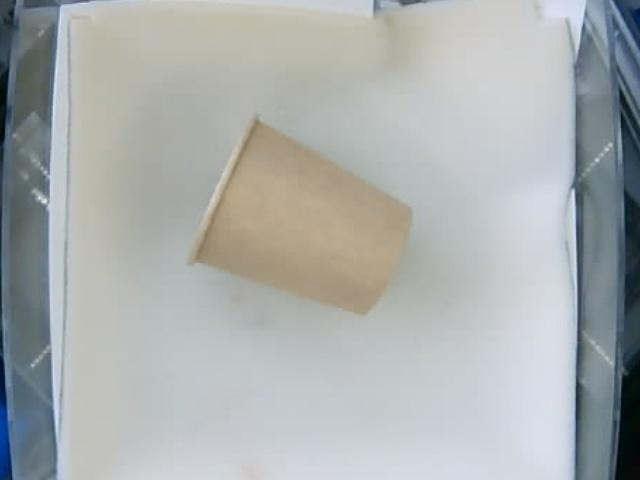Cup: (188, 116, 415, 314)
